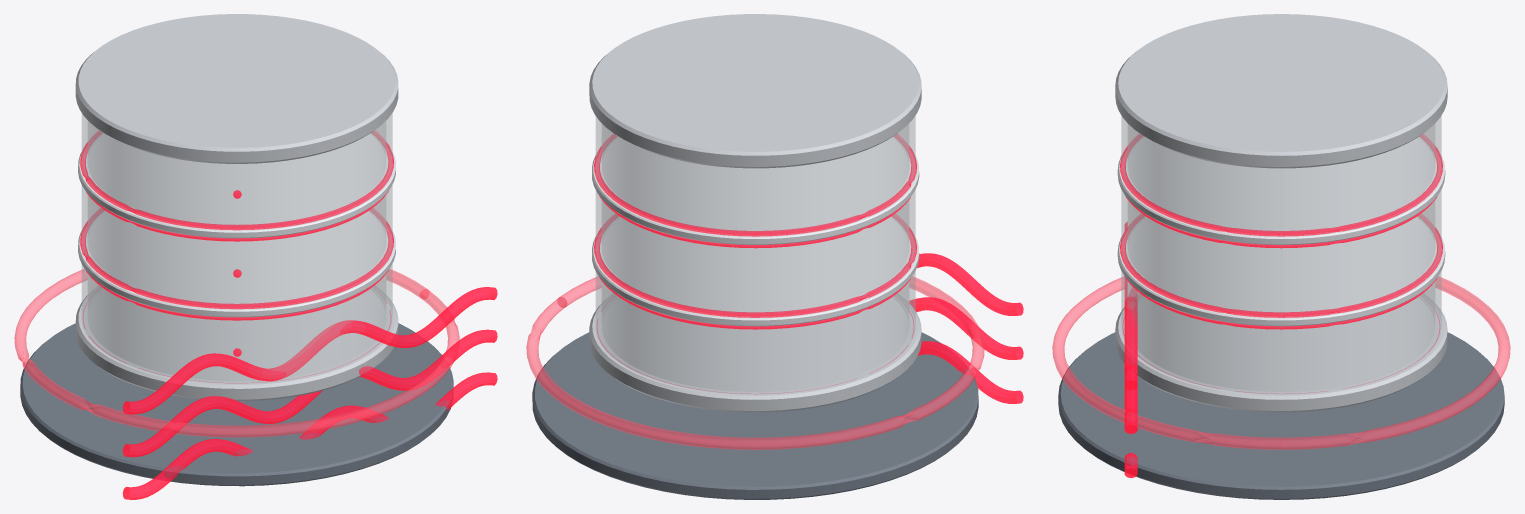
Rendered from 34-lakehouse.glb.
3 views of the same model, side by side, from view 1: azimuth 30°, elevation 25°; view 2: azimuth 150°, elevation 25°; view 3: azimuth 270°, elevation 25° (orthographic). The views are drawn at different scales.
Parts seen in each view (by area): view 1: BC satin silver metal, BC clear optical glass, BC polished silver metal, BC dark brushed metal, BC neon red glass edge, BC ruby optical glass; view 2: BC satin silver metal, BC clear optical glass, BC polished silver metal, BC dark brushed metal, BC neon red glass edge, BC ruby optical glass; view 3: BC satin silver metal, BC clear optical glass, BC polished silver metal, BC dark brushed metal, BC neon red glass edge, BC ruby optical glass.
Boxes of the visible parts, x1,y1,x2,y2 form: BC satin silver metal: (75, 14, 398, 400); BC clear optical glass: (81, 113, 392, 383); BC polished silver metal: (78, 133, 395, 317); BC dark brushed metal: (20, 323, 453, 486); BC neon red glass edge: (80, 130, 497, 499); BC ruby optical glass: (14, 269, 459, 437); BC satin silver metal: (589, 14, 921, 412); BC clear optical glass: (595, 116, 915, 394); BC polished silver metal: (592, 136, 919, 326); BC dark brushed metal: (532, 332, 978, 499); BC neon red glass edge: (594, 134, 1023, 403); BC ruby optical glass: (526, 276, 984, 449); BC satin silver metal: (1115, 14, 1447, 412); BC clear optical glass: (1121, 116, 1441, 394); BC polished silver metal: (1117, 137, 1445, 326); BC dark brushed metal: (1058, 332, 1504, 499); BC neon red glass edge: (1120, 134, 1442, 477); BC ruby optical glass: (1052, 276, 1510, 449).
Bounding box in the file's own units: 1.89 × 1.51 × 1.89.
